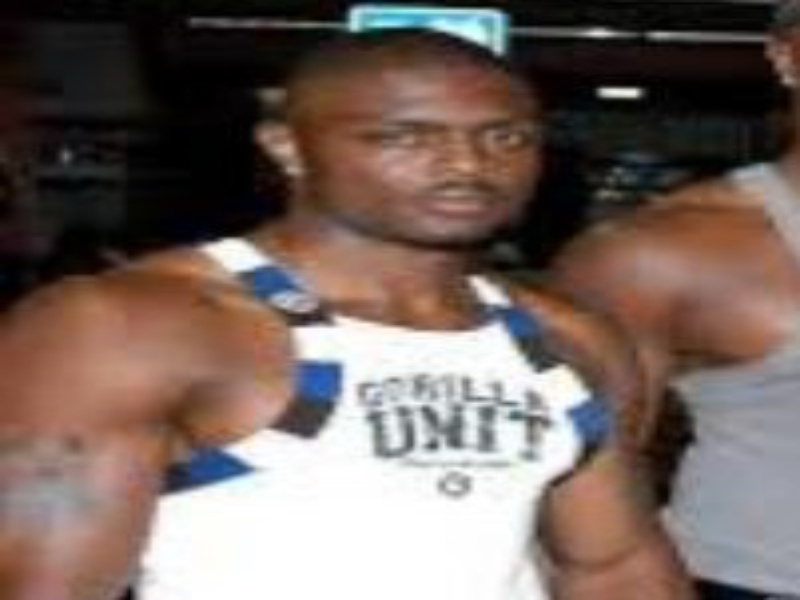TsisyArotava: (255, 27, 570, 275)
